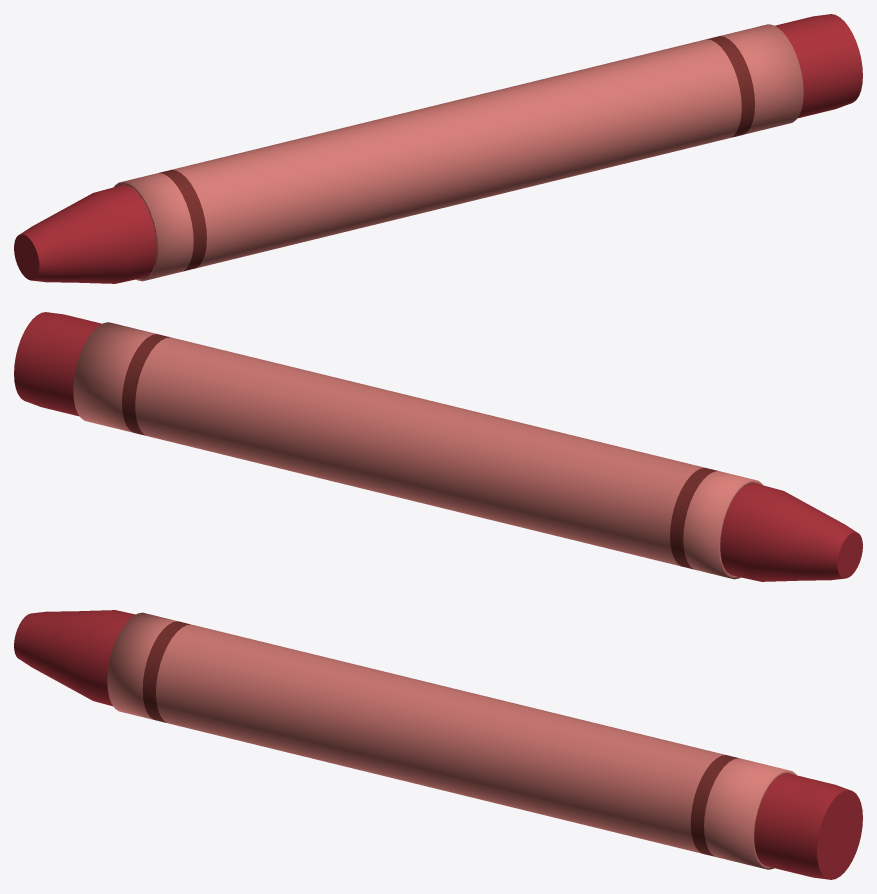
File: A-NEW-20261027-CRAYON-001_LOD1_R1.glb
3 views of the same model, one above another, from view 1: azimuth 30°, elevation 25°; view 2: azimuth 150°, elevation 25°; view 3: azimuth 330°, elevation 25° (orthographic).
Visible parts, largest first — view 1: closed thin paper sleeve, whole blunt colored core; view 2: closed thin paper sleeve, whole blunt colored core; view 3: closed thin paper sleeve, whole blunt colored core.
Part boxes in pixels (<box>): closed thin paper sleeve: <box>114,24,803,281</box>; whole blunt colored core: <box>14,14,862,283</box>; closed thin paper sleeve: <box>73,322,762,579</box>; whole blunt colored core: <box>14,312,862,581</box>; closed thin paper sleeve: <box>107,612,796,869</box>; whole blunt colored core: <box>14,610,862,879</box>.
Bounding box in the file's own units: 0.092 × 0.01 × 0.01.
